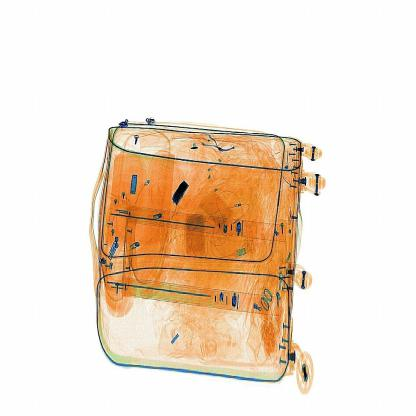scissors: (170, 176, 196, 212)
